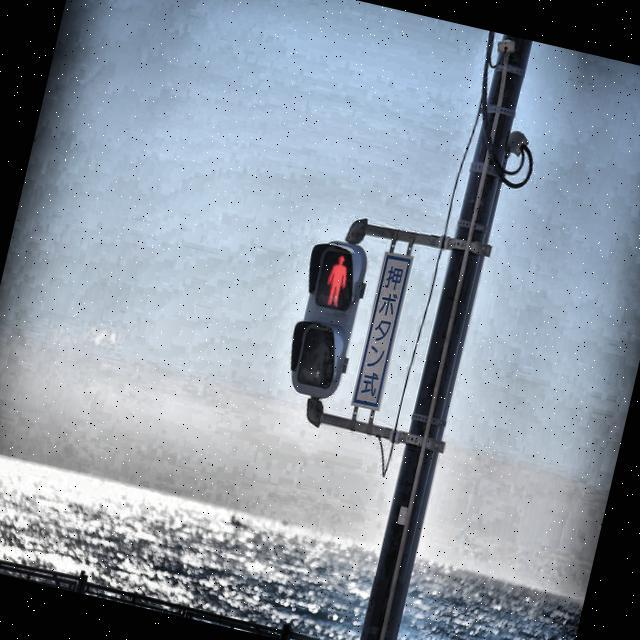red_light: (320, 252, 354, 310)
